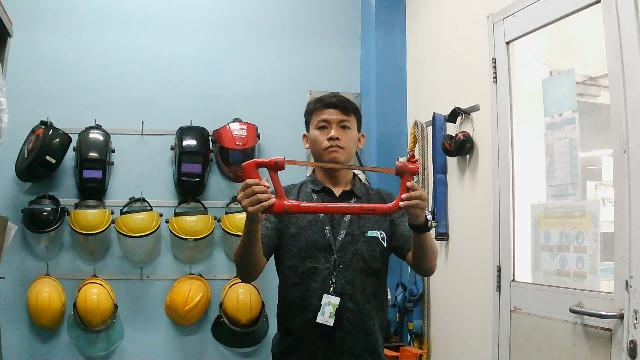gergaji_besi: (237, 155, 422, 220)
